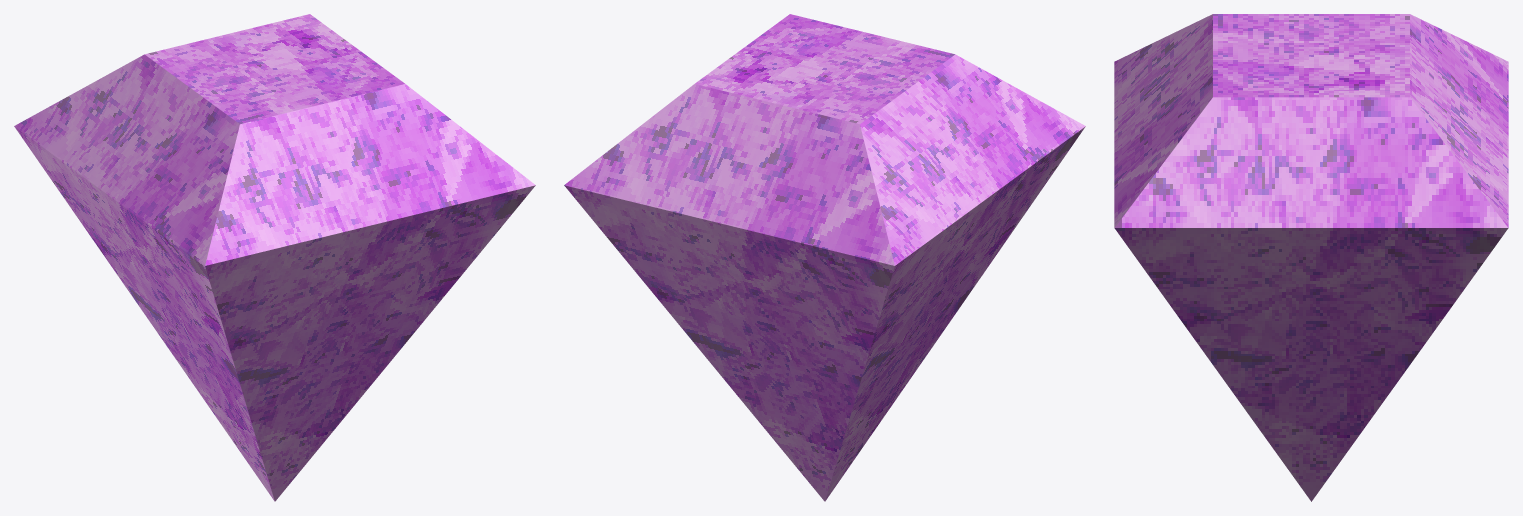
File: UnbreakableDiamond.gltf
3 views of the same model, side by side, from view 1: azimuth 30°, elevation 25°; view 2: azimuth 150°, elevation 25°; view 3: azimuth 270°, elevation 25° (orthographic). The views are drawn at different scales.
Visible parts, largest first — view 1: pyramid; view 2: pyramid; view 3: pyramid.
Part boxes in pixels (<box>): pyramid: <box>14,14,535,501</box>; pyramid: <box>564,14,1085,501</box>; pyramid: <box>1114,14,1508,501</box>.
Bounding box in the file's own units: 0.5 × 0.625 × 0.5.
1 material, 1 textured.
